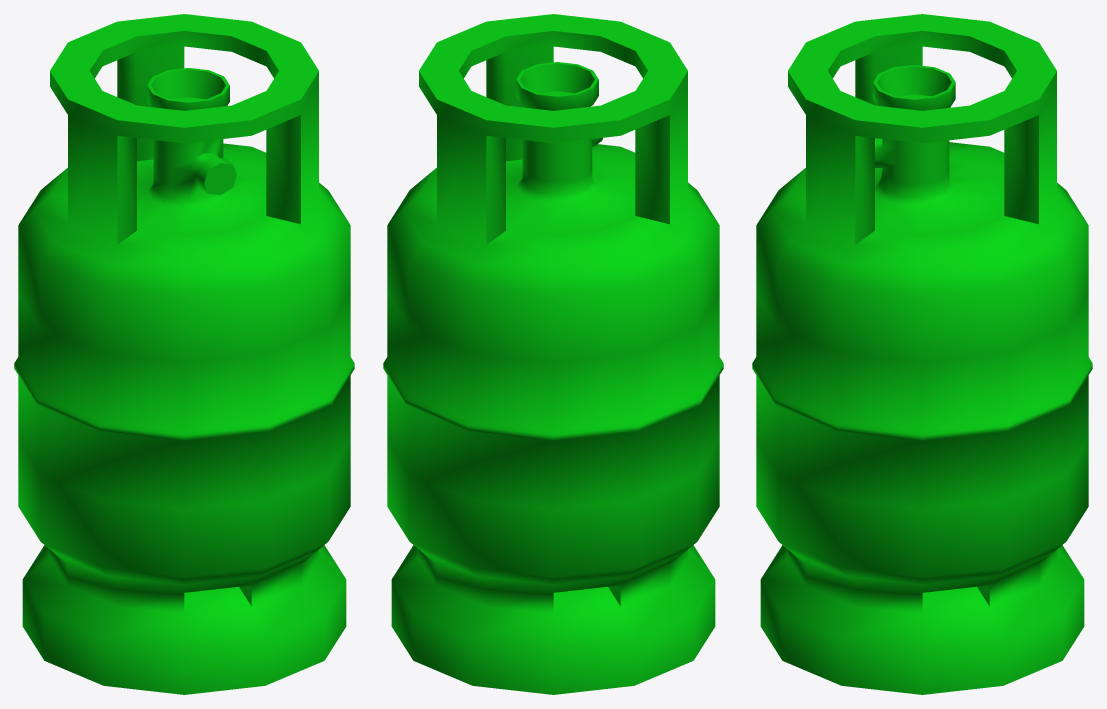
Rendered from gas cylinder.FBX.
3 views of the same model, side by side, from view 1: azimuth 30°, elevation 25°; view 2: azimuth 150°, elevation 25°; view 3: azimuth 270°, elevation 25° (orthographic).
Parts seen in each view (by area): view 1: OilTank003; view 2: OilTank003; view 3: OilTank003.
Part boxes in pixels (<box>): OilTank003: <box>14,14,354,694</box>; OilTank003: <box>383,14,723,694</box>; OilTank003: <box>752,14,1092,694</box>.
Bounding box in the file's own units: 142 × 256 × 142.
